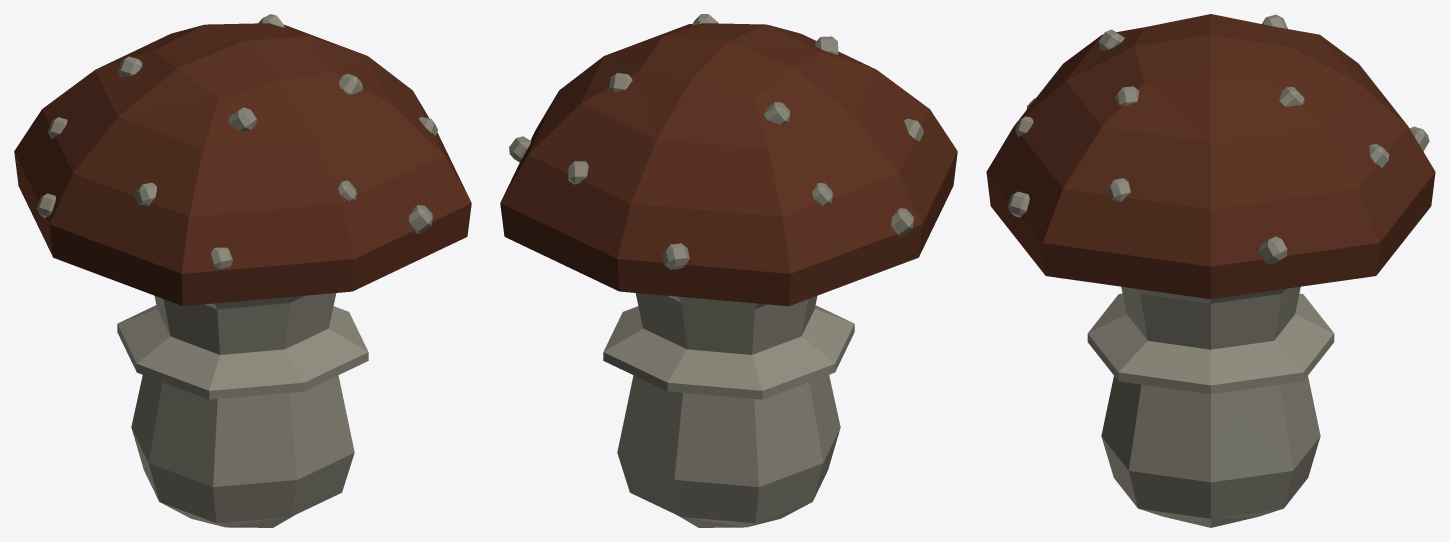
File: plant_mushroom_giant_1.glb
The picture shows the model from 3 angles, left to right: view 1: azimuth 30°, elevation 25°; view 2: azimuth 150°, elevation 25°; view 3: azimuth 270°, elevation 25°; orthographic projection.
Visible parts, largest first — view 1: plant_mushroom_giant_1; view 2: plant_mushroom_giant_1; view 3: plant_mushroom_giant_1.
Part boxes in pixels (bbox=[...]): plant_mushroom_giant_1: bbox=[14, 14, 471, 527]; plant_mushroom_giant_1: bbox=[500, 14, 957, 527]; plant_mushroom_giant_1: bbox=[986, 14, 1435, 527].
Size of the model in its own units: 7.72 by 9 by 7.7.
